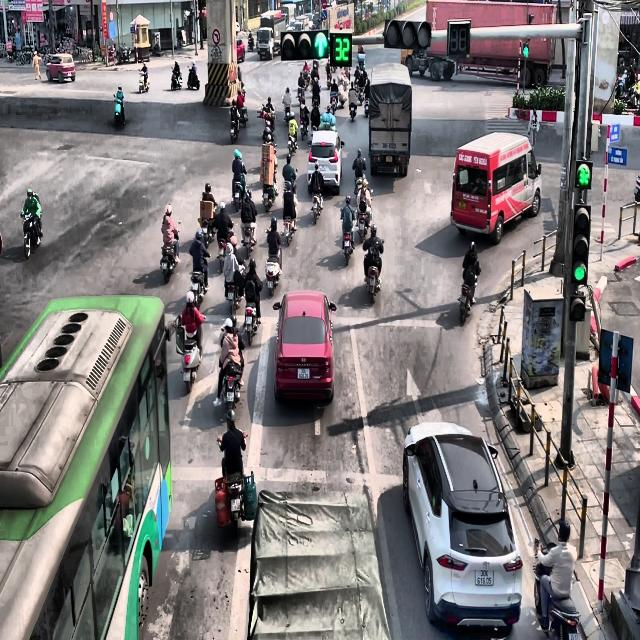lisence_plate: (474, 568, 494, 587), (296, 366, 310, 380), (382, 143, 398, 149), (458, 199, 466, 210), (386, 154, 393, 162), (319, 166, 328, 172)
